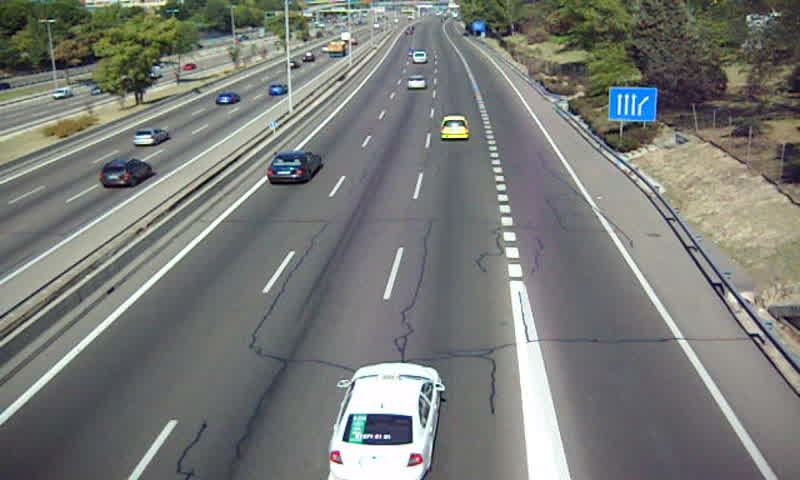car: (327, 363, 441, 480), (267, 152, 320, 182), (441, 114, 470, 141), (407, 74, 427, 91)
